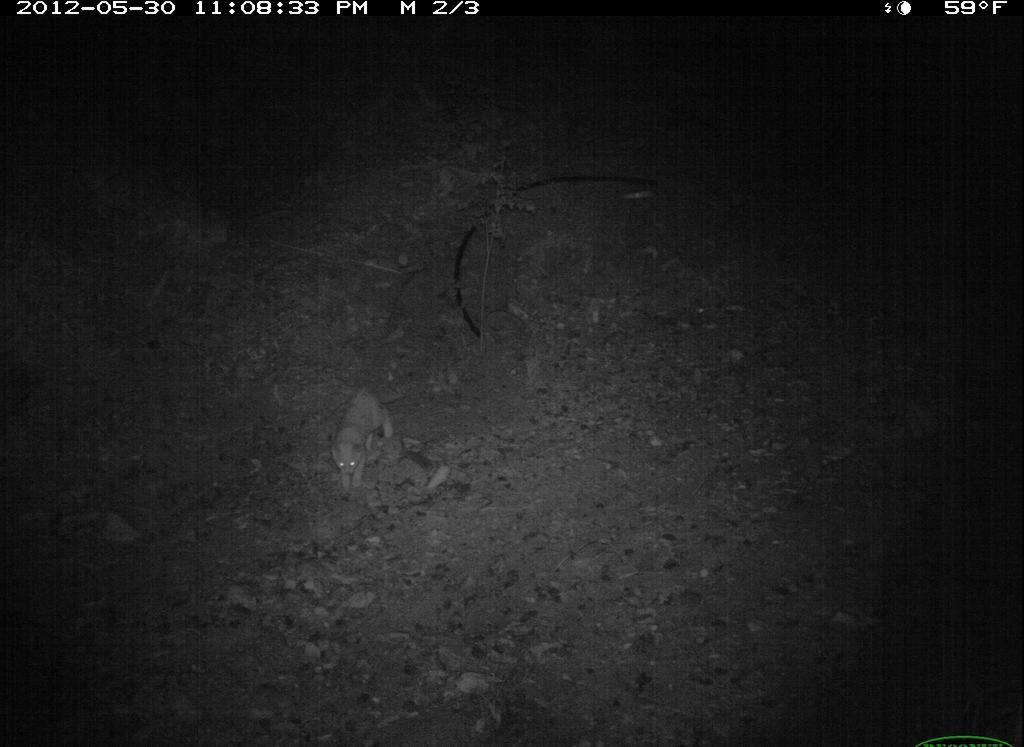cat: (322, 382, 396, 496)
